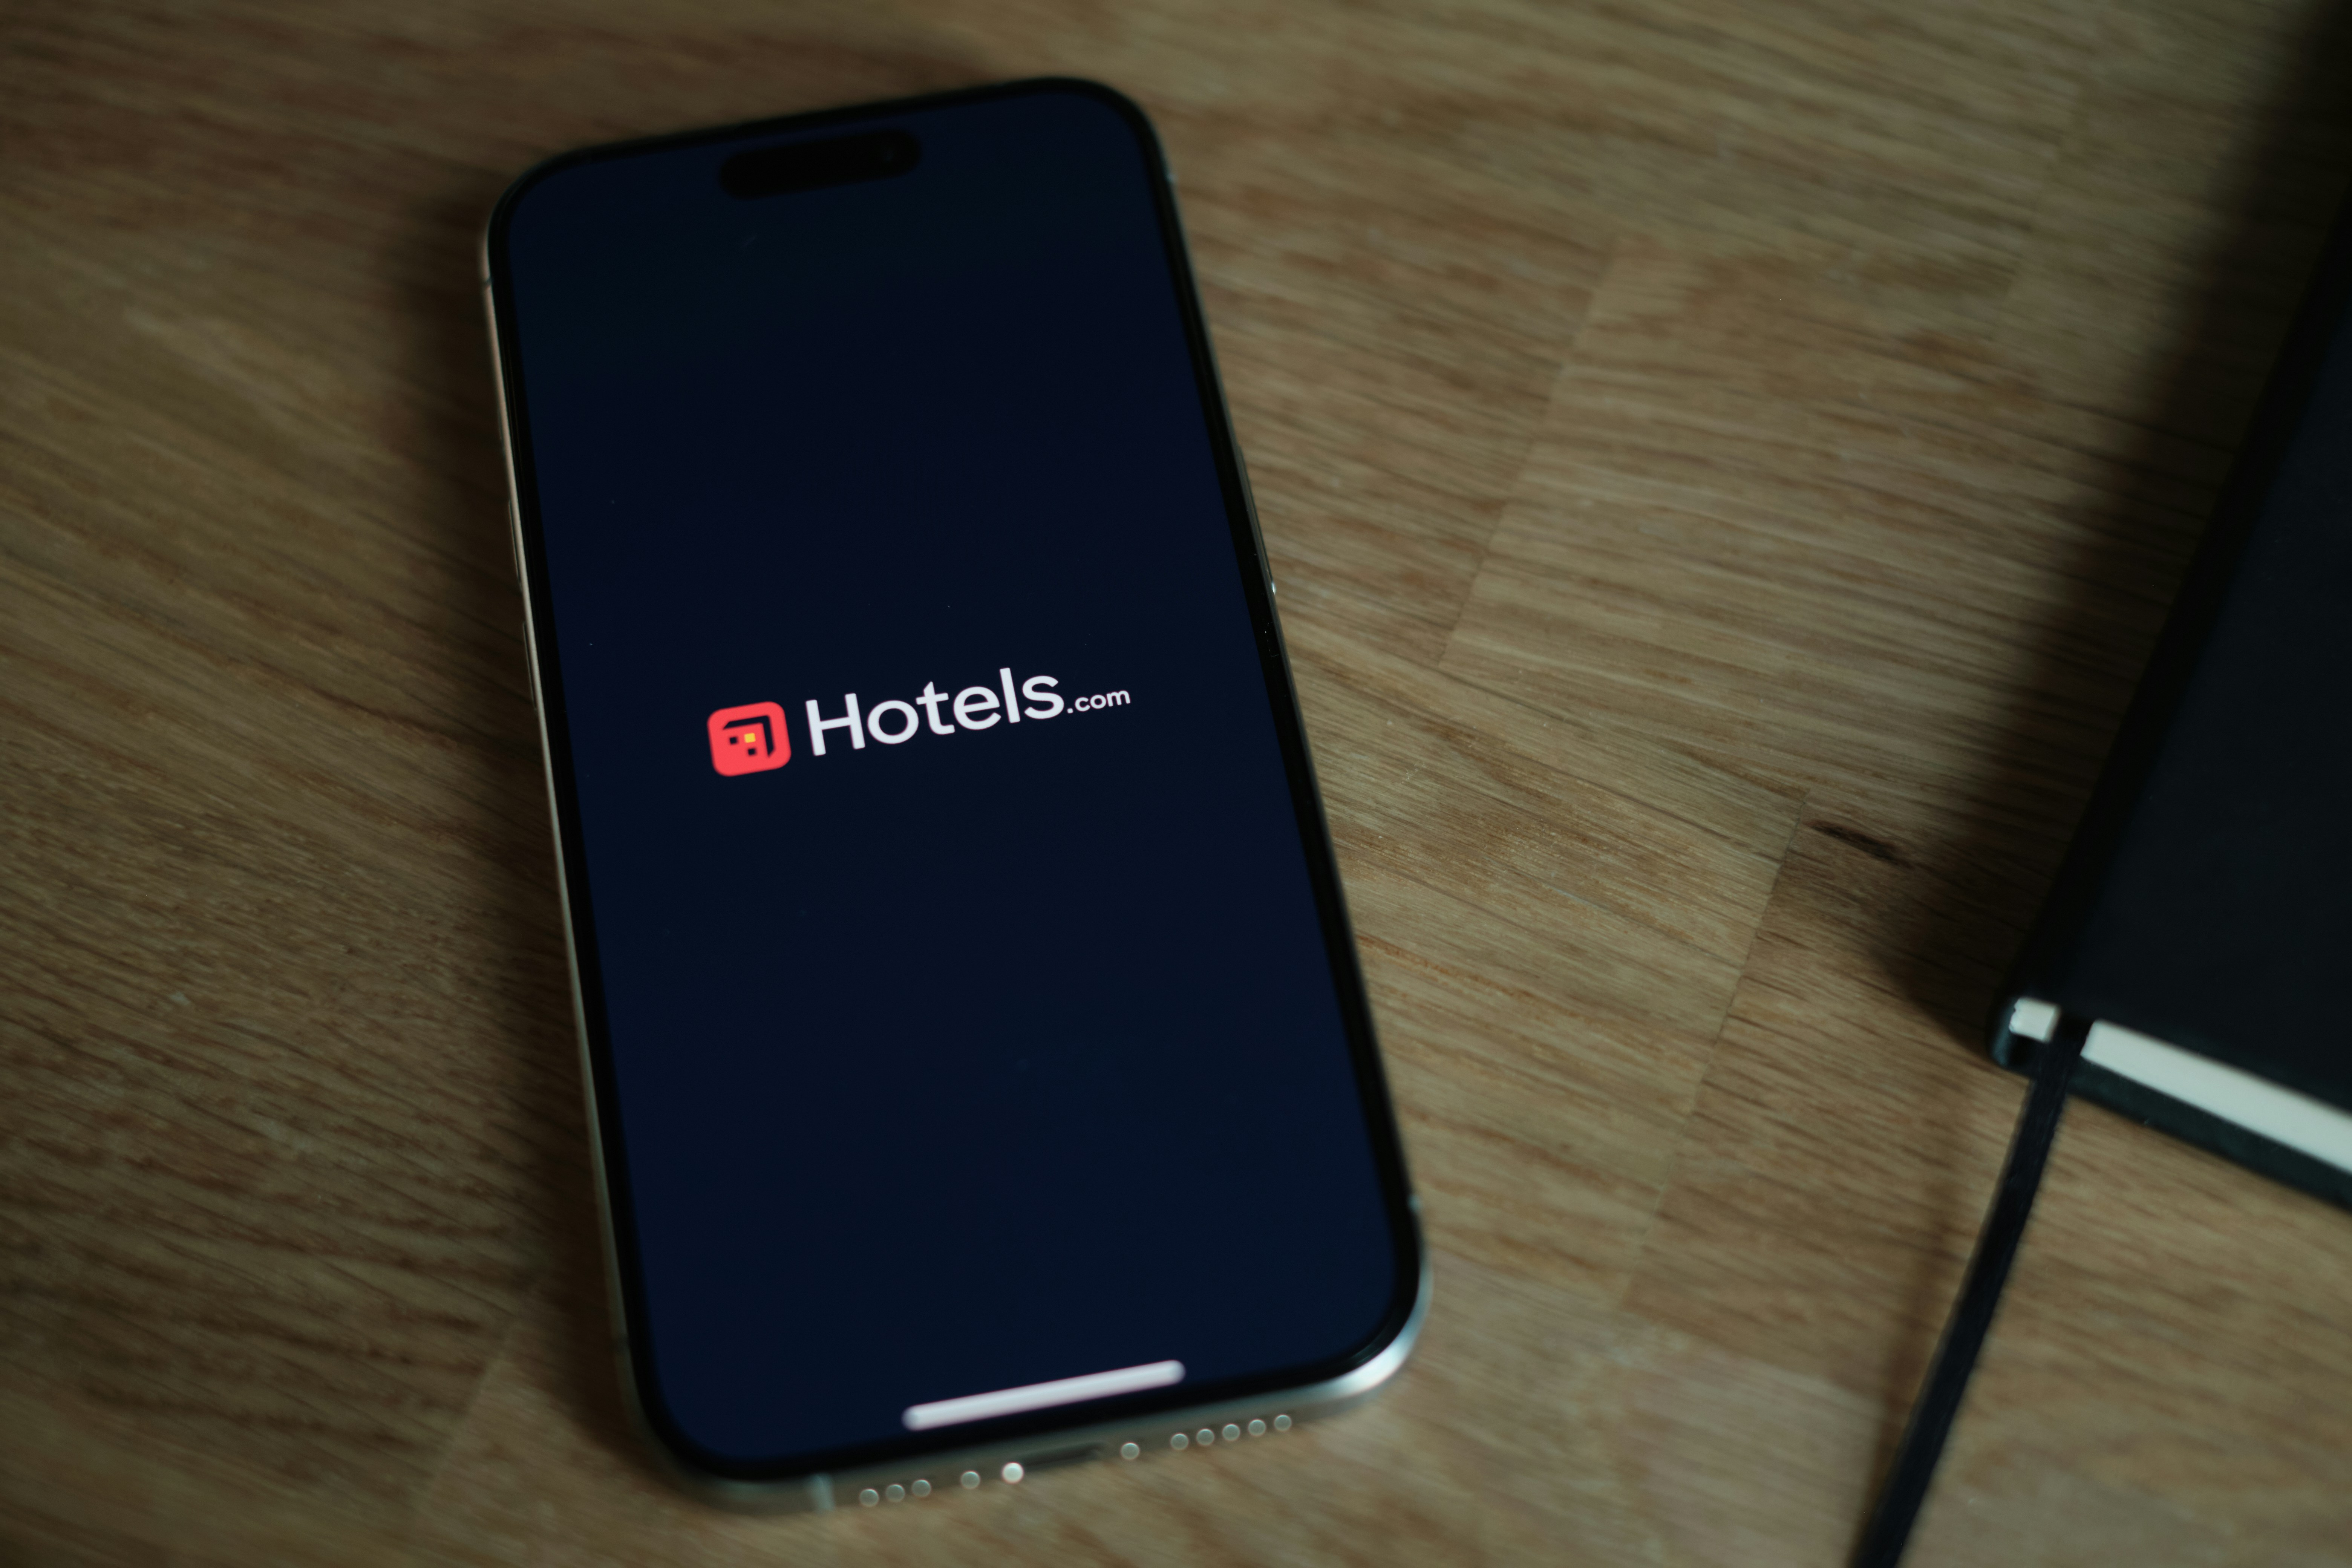p6: (445, 54, 1465, 1529)
